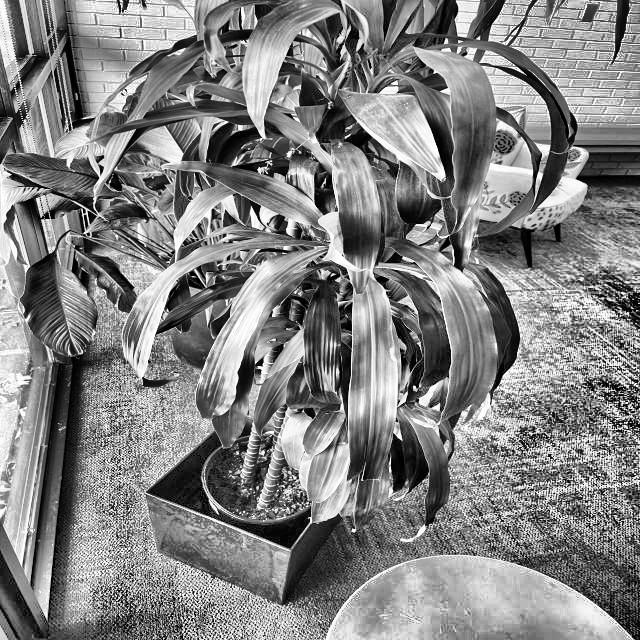plants: (13, 19, 526, 578)
